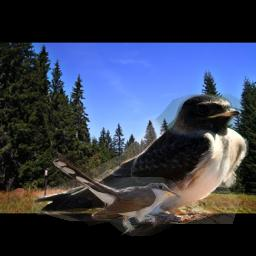Cuckoo: (51, 153, 181, 236)
Swallow: (30, 94, 249, 224)
